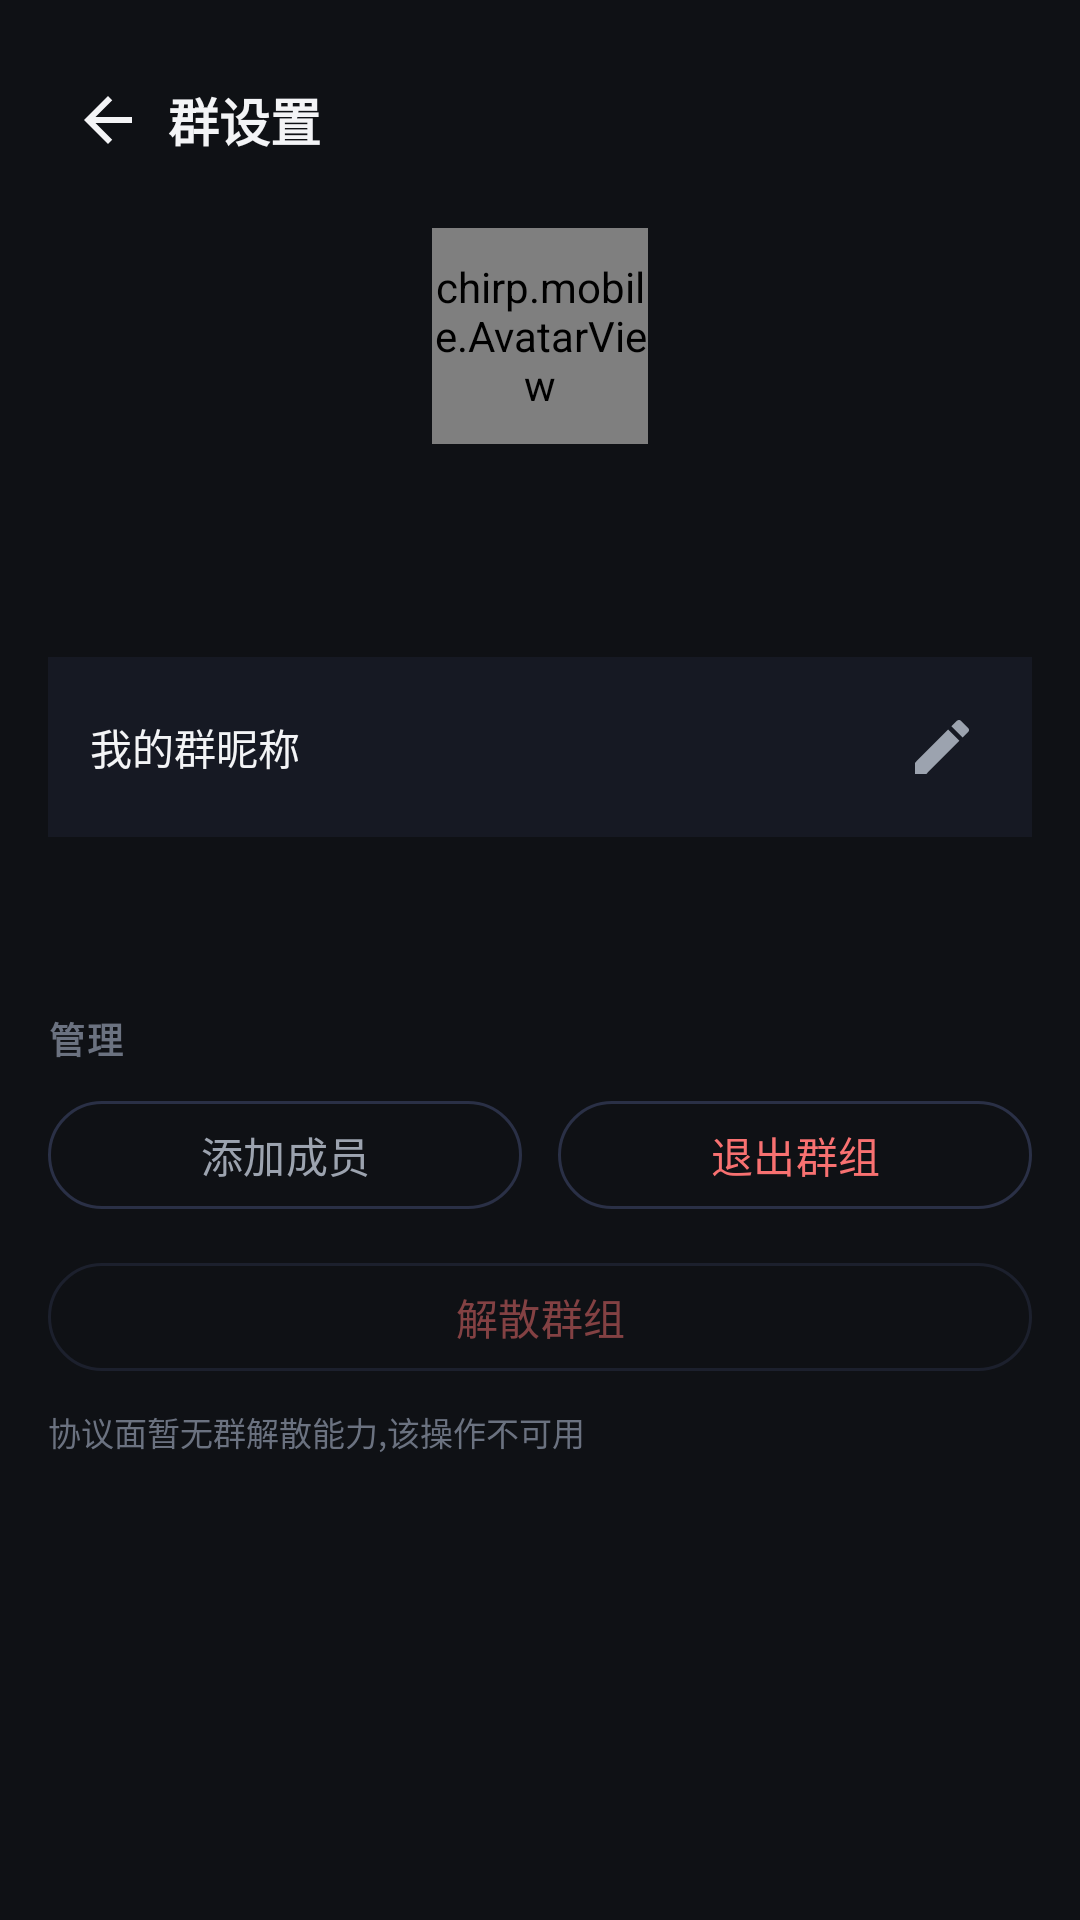

Icons on this 1080px x 1920px Android screen, each with the point to tap as (x,y):
返回: (108,120)
